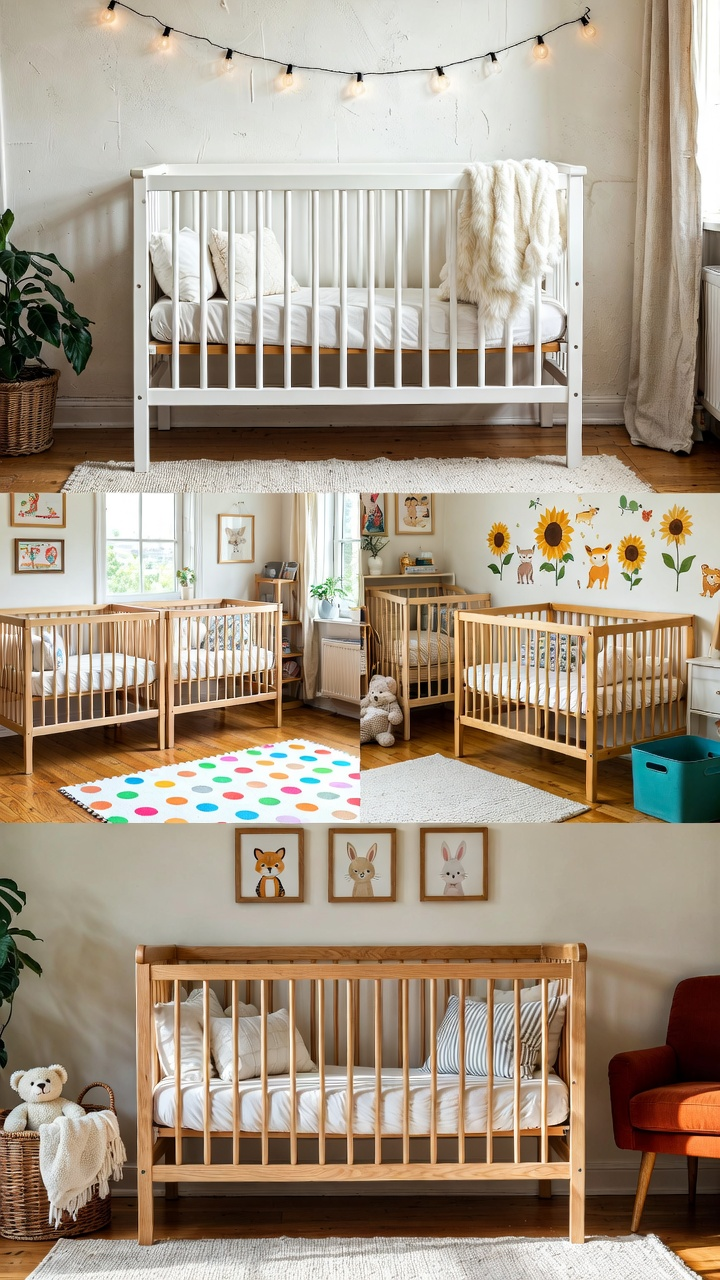crib: (133, 163, 585, 470), (136, 945, 585, 1243), (454, 602, 694, 802), (0, 605, 163, 773), (364, 580, 490, 739), (162, 598, 281, 747)
